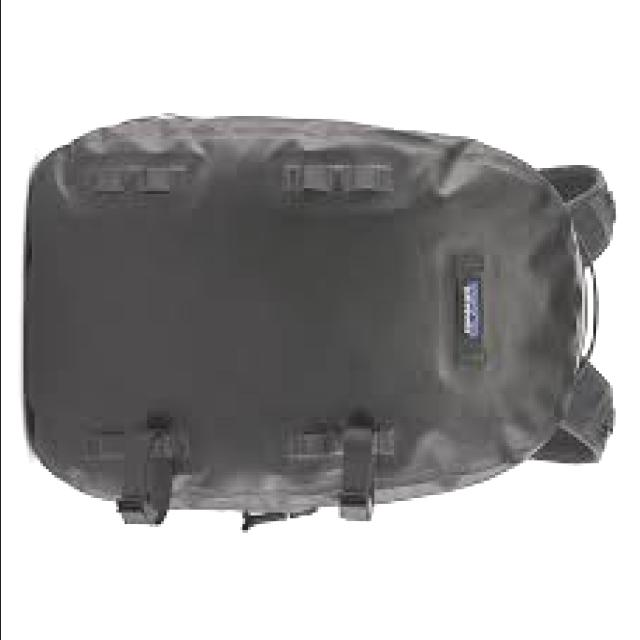backpack: (24, 111, 622, 531)
